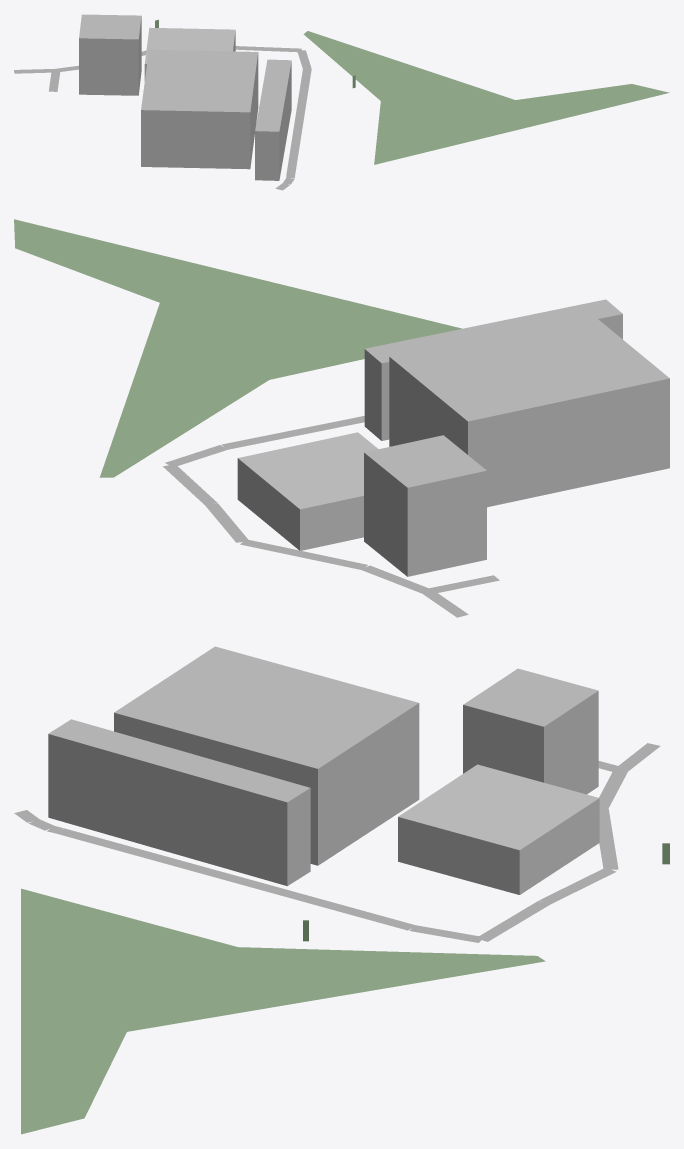
3 renders of one model, top to bottom at view 1: azimuth 30°, elevation 25°; view 2: azimuth 150°, elevation 25°; view 3: azimuth 270°, elevation 25°, orthographic. The views are drawn at different scales.
Size of the model in its own units: 309 by 36.05 by 219.
